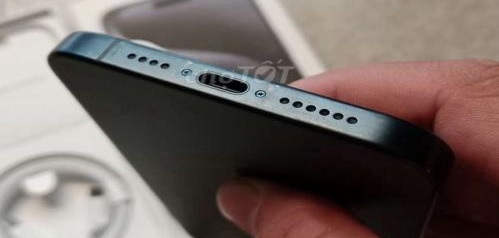scratch: (176, 52, 199, 68), (264, 79, 287, 94), (77, 47, 99, 60), (350, 103, 365, 113), (378, 115, 385, 124)
